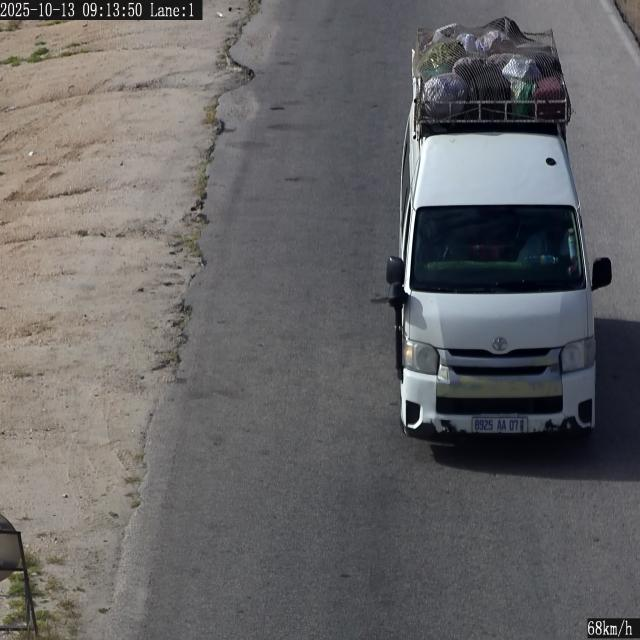BUS: (472, 417, 527, 433)
